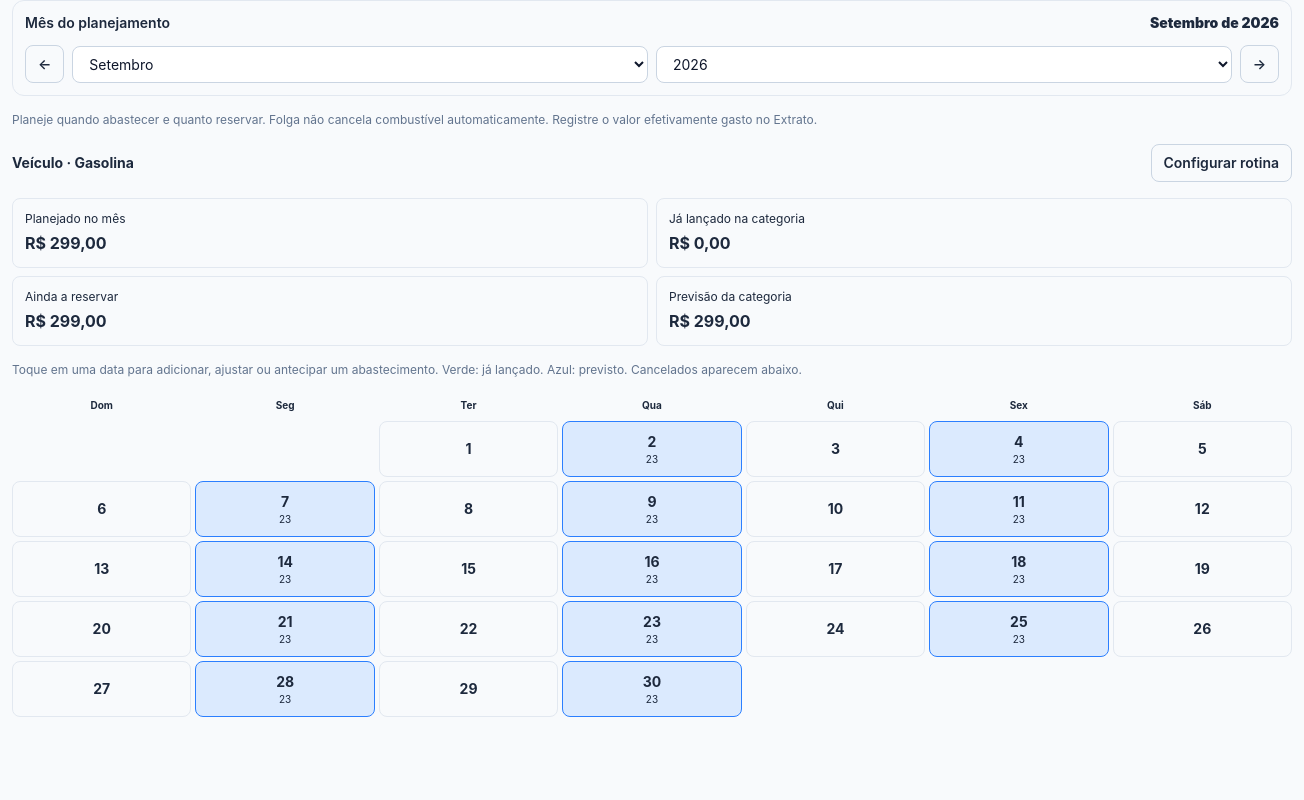
permite escolher mês e ano sem depender do seletor nativo
The image size is (1304, 800).
Expected: the button named "Abastecimento 11/09" is shown, [929,481,1108,537]
Expected: the text "Setembro de 2026" is shown, [1150,13,1279,33]
Select "Outubro" in the dropdown named "Mês". click: (360,64)
box: [72,46,648,82]
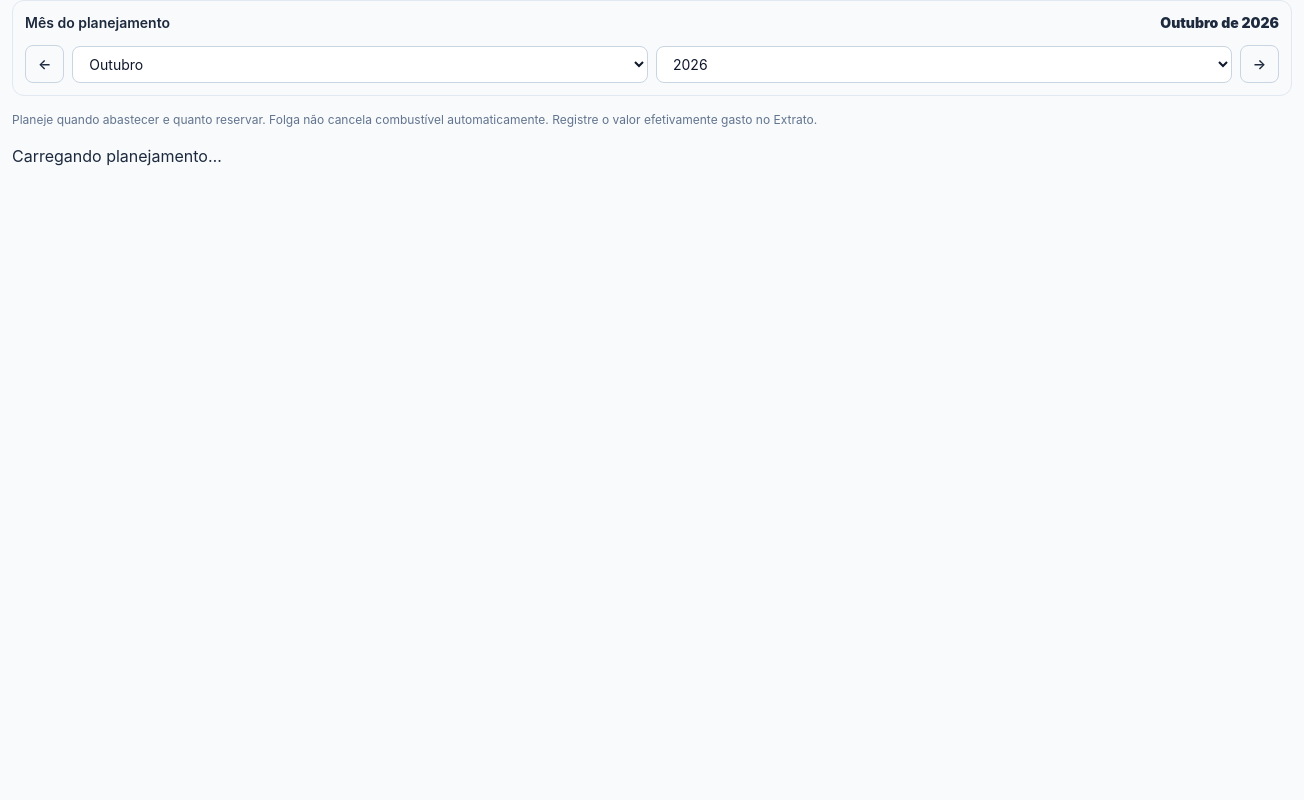
Select "2027" in the dropdown named "Ano". click: (944,64)
box: [656,46,1232,82]
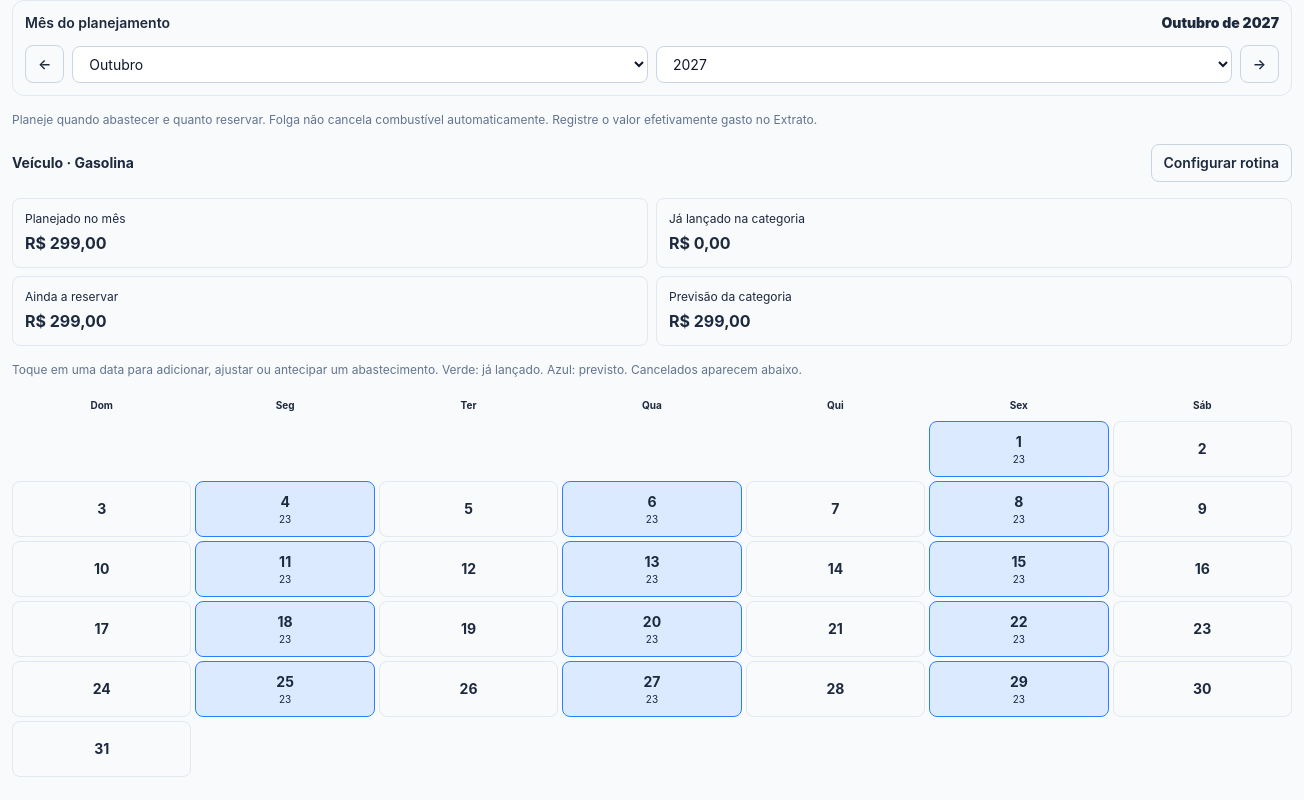
Expected: the text "Outubro de 2027" is shown, [1161,13,1279,33]
